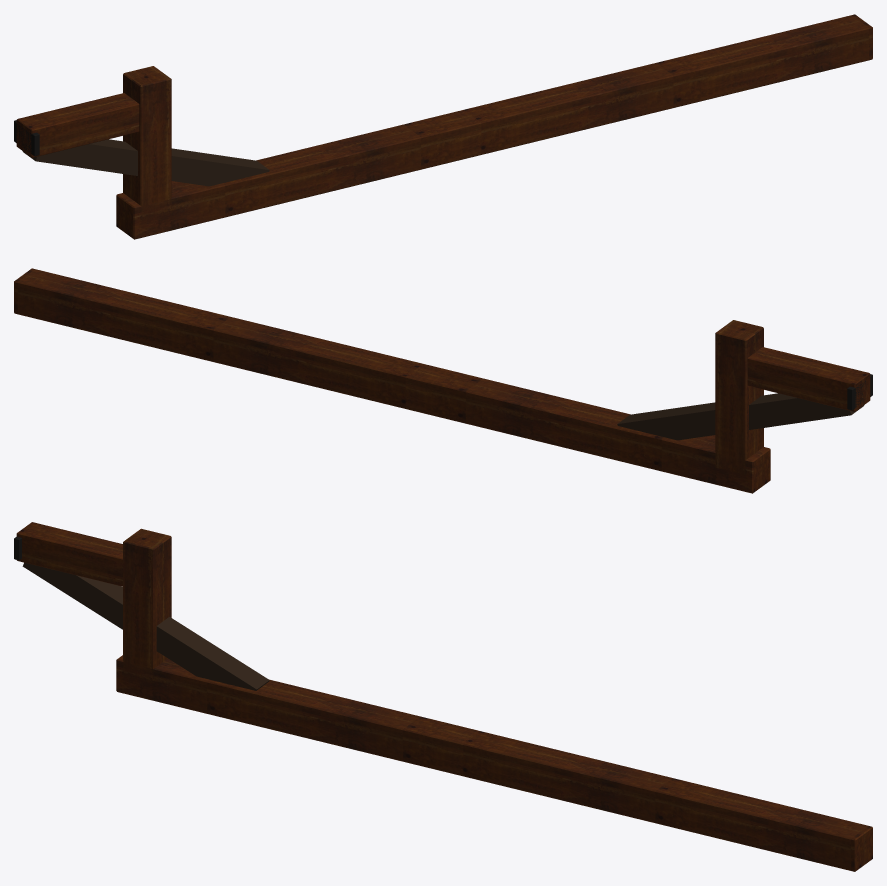
Rendered from roof-tie-610.glb.
3 views of the same model, one above another, from view 1: azimuth 30°, elevation 25°; view 2: azimuth 150°, elevation 25°; view 3: azimuth 330°, elevation 25° (orthographic).
Parts seen in each view (by area): view 1: roof-tie-610; view 2: roof-tie-610; view 3: roof-tie-610.
Boxes of the visible parts, x1=… form: roof-tie-610: x1=14, y1=14, x2=872, y2=239; roof-tie-610: x1=14, y1=268, x2=872, y2=493; roof-tie-610: x1=14, y1=522, x2=872, y2=871.
Size of the model in its own units: 3.75 by 0.65 by 0.16.
Materials: 1 (1 with a texture image).
